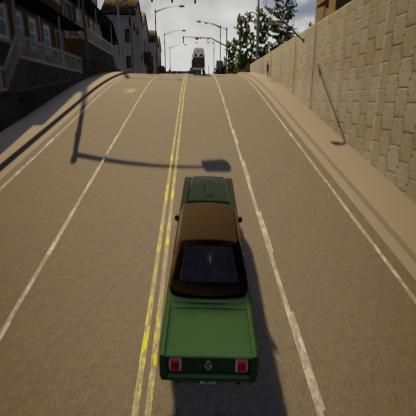Cars: (159, 174, 258, 389), (191, 47, 205, 73)
Pedestrian: (266, 60, 270, 82)
